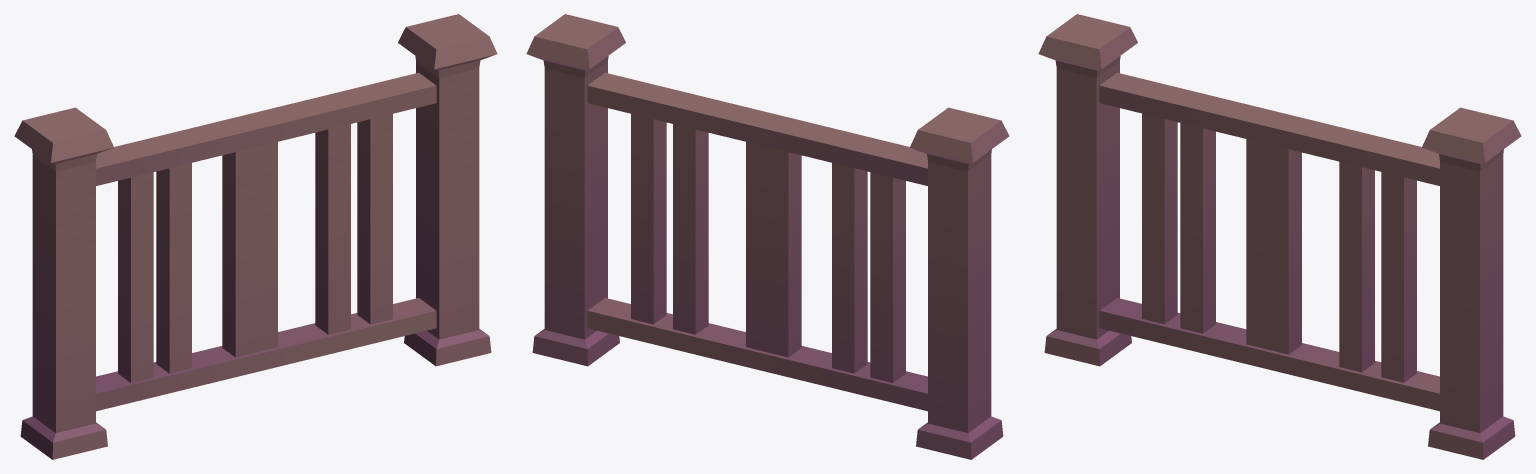
File: fence_center.gltf
3 views of the same model, side by side, from view 1: azimuth 30°, elevation 25°; view 2: azimuth 150°, elevation 25°; view 3: azimuth 330°, elevation 25° (orthographic).
Parts seen in each view (by area): view 1: Object_42; view 2: Object_42; view 3: Object_42.
Boxes of the visible parts, <box> form: Object_42: <box>14,14,497,459</box>; Object_42: <box>526,14,1009,459</box>; Object_42: <box>1038,14,1521,459</box>.
Size of the model in its own units: 4.43 by 3 by 0.6277.
Materials: 1 (1 with a texture image).
